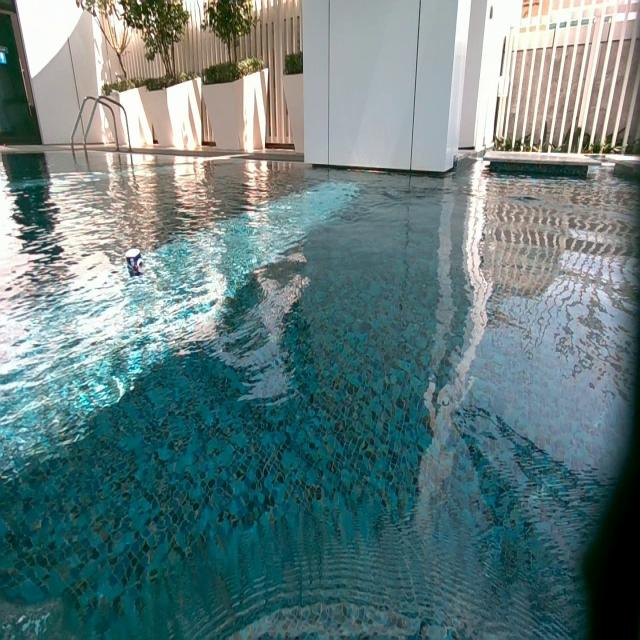Cans: (127, 248, 145, 275)
